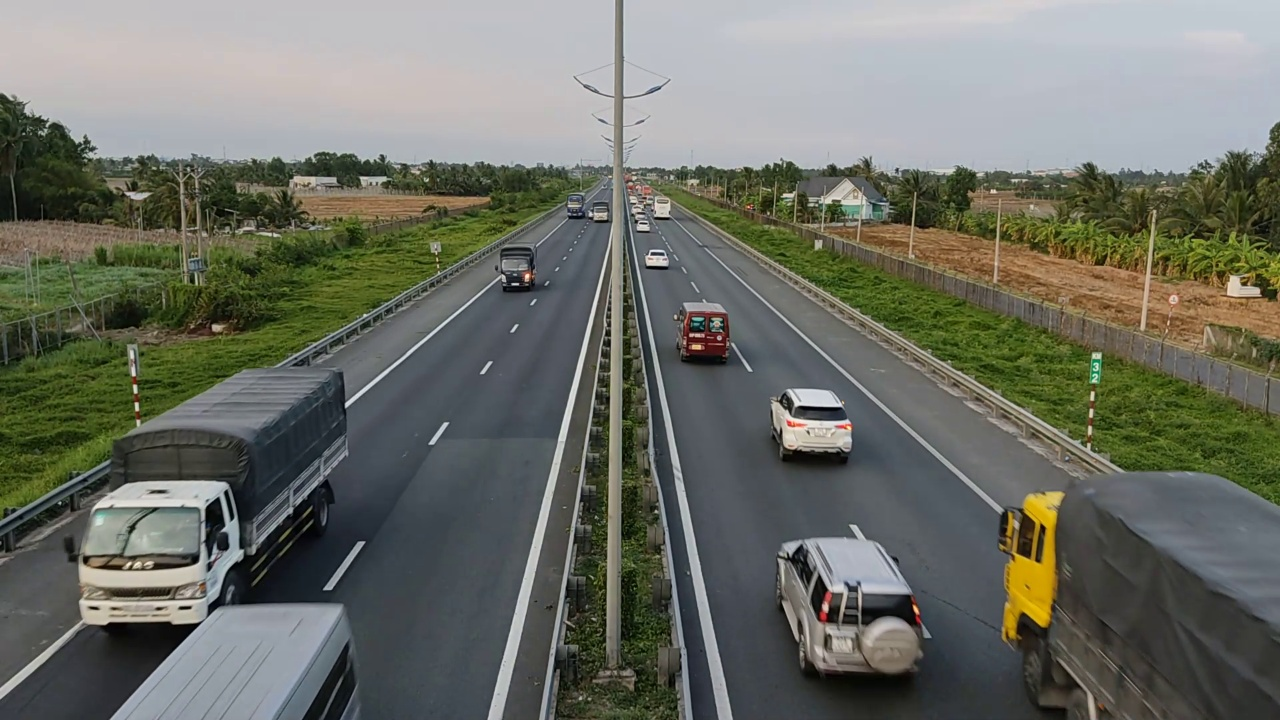bus: (109, 601, 363, 717)
car: (773, 527, 935, 679), (769, 387, 853, 461), (674, 296, 734, 366), (645, 248, 669, 270)
truck: (71, 364, 351, 628), (997, 471, 1280, 715)
